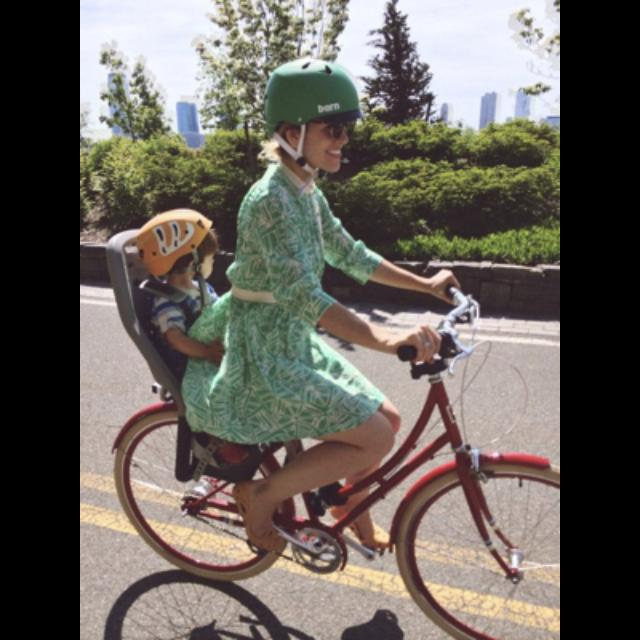With Helmet: (261, 50, 363, 180), (126, 193, 224, 294)
